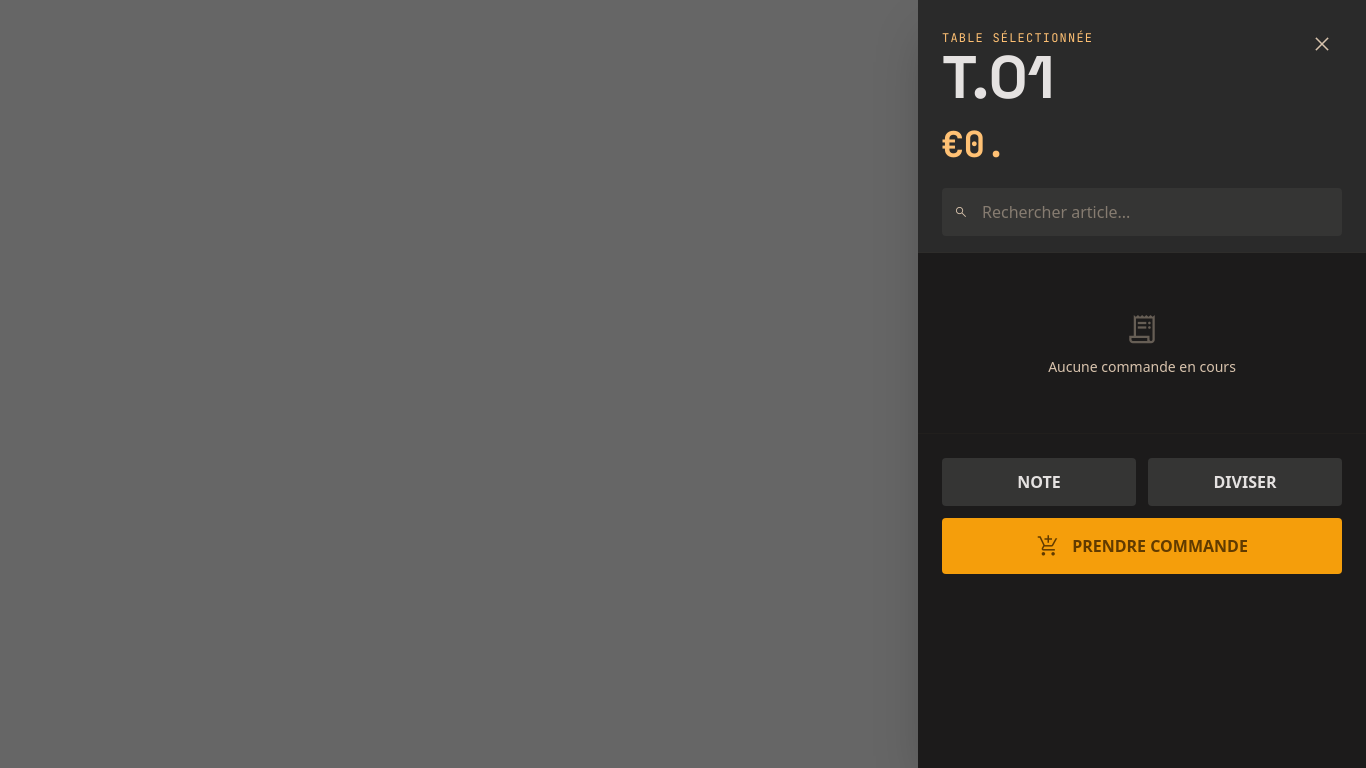
SelectedTable › devrait ouvrir le modal NewOrderModal pour une table libre
Click the button with aria-label "Prendre une nouvelle commande" at (1142, 546), box 942,518 -> 1342,574
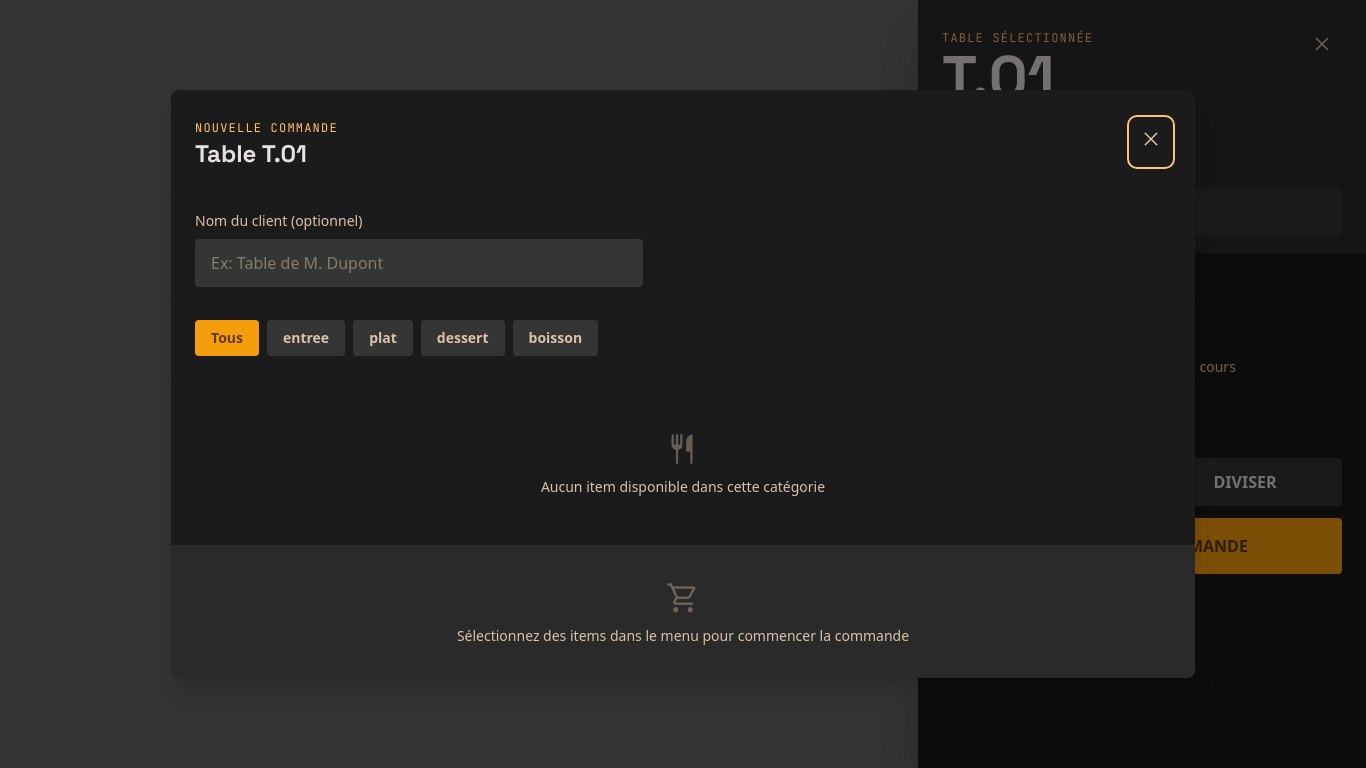
Expected: the text "NOUVELLE COMMANDE" is shown, 195,120 -> 338,136
